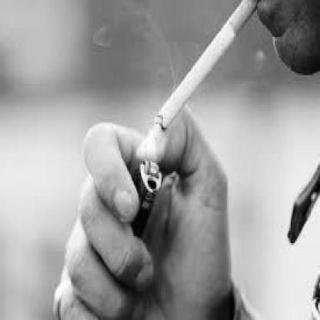Fire: (141, 116, 163, 170)
